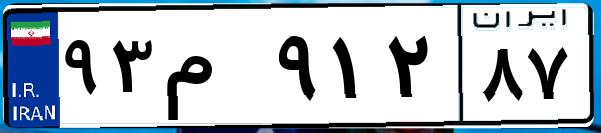1: (330, 28, 385, 110)
2: (385, 28, 445, 110)
3: (110, 28, 158, 98)
7: (525, 38, 570, 115)
8: (475, 38, 525, 113)
9: (270, 28, 330, 110), (57, 26, 110, 100)
م: (158, 20, 270, 120)
